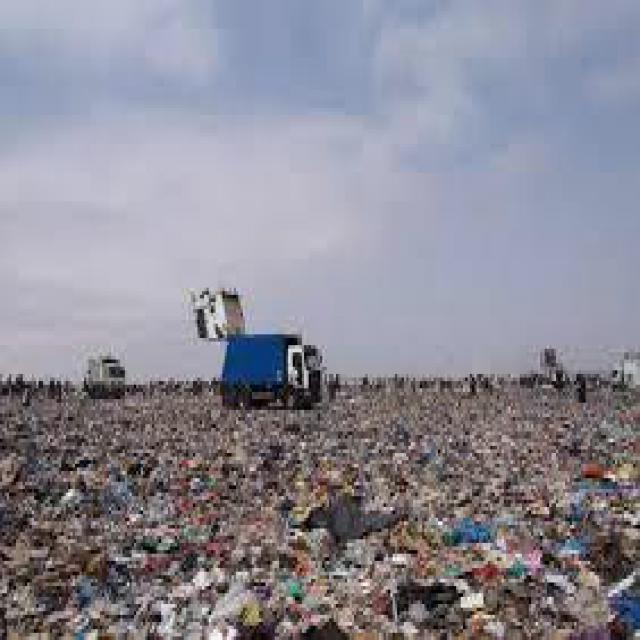garbage: (4, 377, 638, 639)
